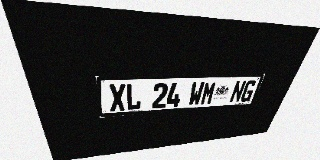2: (152, 83, 168, 109)
4: (166, 82, 183, 108)
G: (239, 80, 257, 102)
L: (126, 83, 142, 110)
M: (200, 81, 217, 105)
N: (229, 80, 247, 103)
W: (188, 82, 205, 106)
X: (108, 84, 126, 112)
